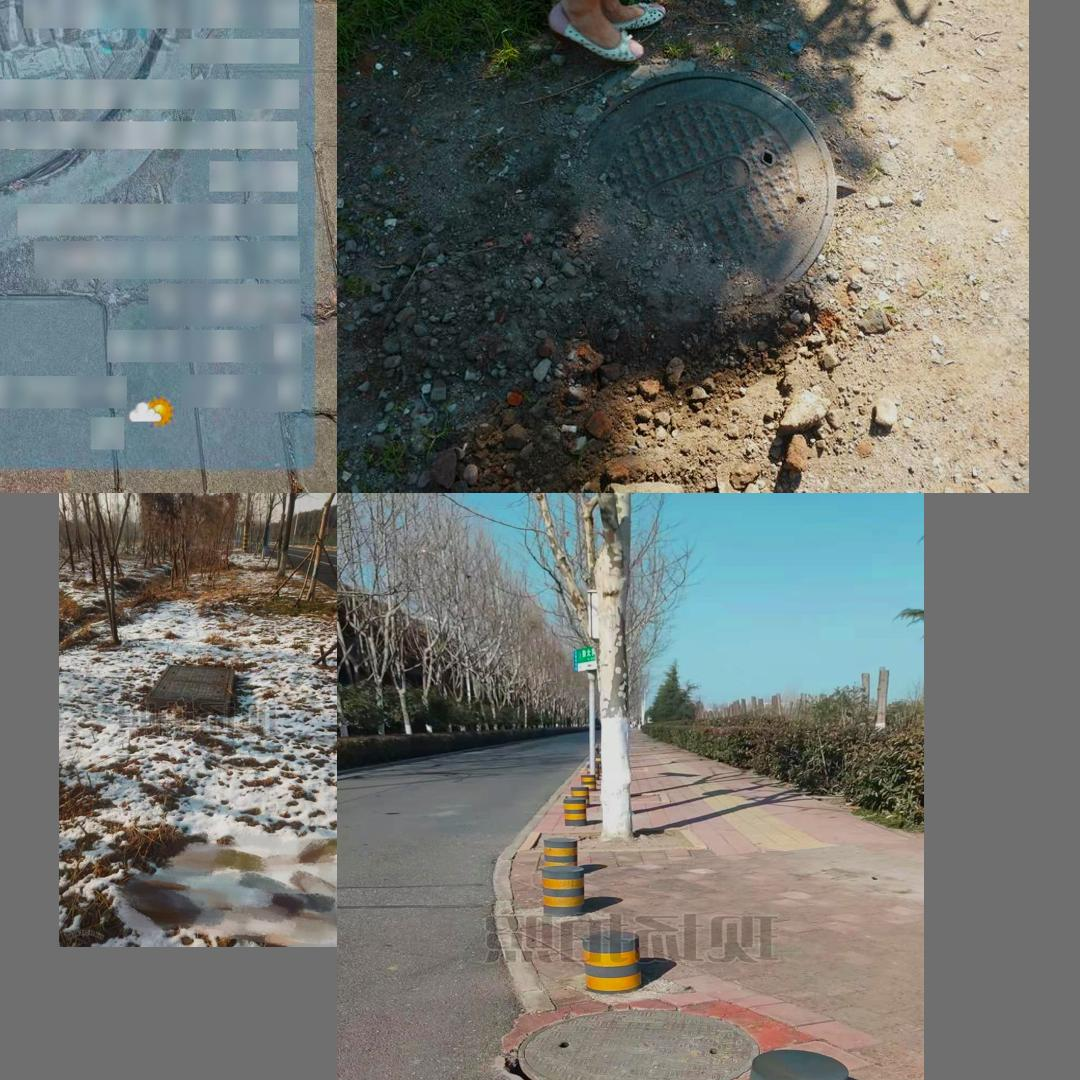circle: (506, 63, 904, 354), (0, 0, 185, 244), (497, 1002, 764, 1080), (139, 664, 238, 719)
